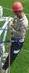gloves: (18, 40, 24, 48)
hard-hat: (11, 1, 23, 12)
ppe-suit: (1, 14, 29, 71)
